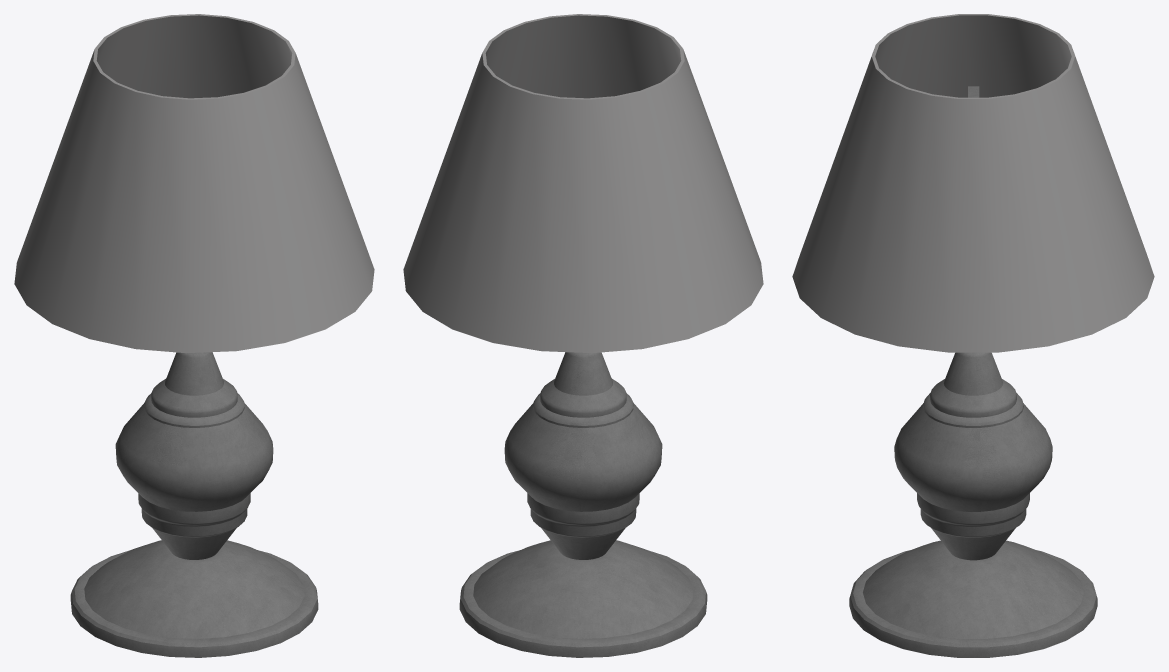
Rendered from bedside_lamp.glb.
The picture shows the model from 3 angles, left to right: view 1: azimuth 30°, elevation 25°; view 2: azimuth 150°, elevation 25°; view 3: azimuth 270°, elevation 25°; orthographic projection.
Visible parts, largest first — view 1: Cylinder.001, Cylinder; view 2: Cylinder.001, Cylinder; view 3: Cylinder.001, Cylinder.
Boxes of the visible parts, bbox=[...] form: Cylinder.001: bbox=[14, 14, 374, 353]; Cylinder: bbox=[70, 352, 318, 657]; Cylinder.001: bbox=[403, 14, 763, 353]; Cylinder: bbox=[459, 352, 707, 657]; Cylinder.001: bbox=[792, 14, 1154, 352]; Cylinder: bbox=[849, 86, 1097, 657].
Bounding box in the file's own units: 2.33 × 3.95 × 2.36.
Materials: 2 (1 with a texture image).
